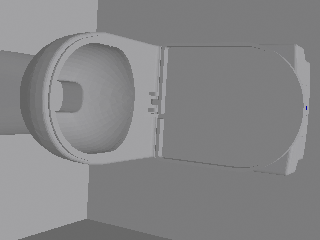lid_1: (163, 48, 302, 168)
